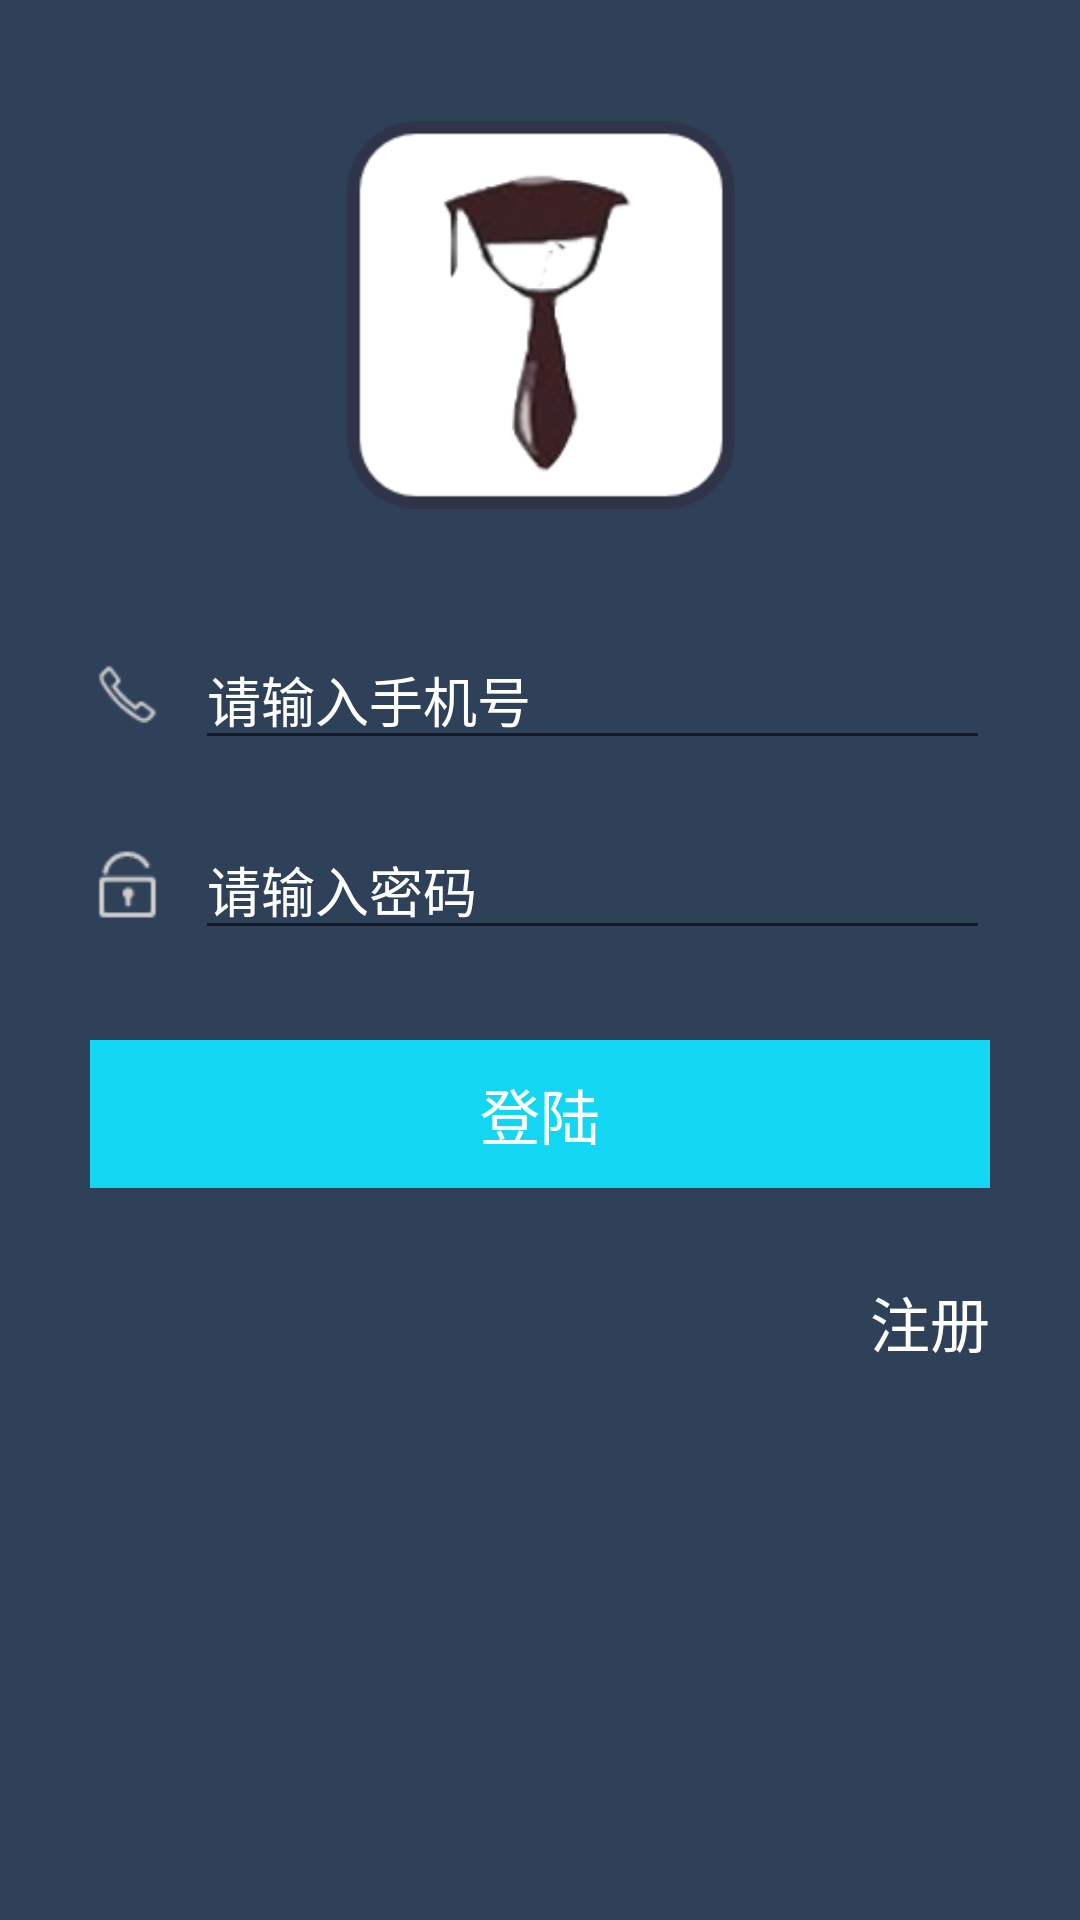

Icons on this 1080x1920 Android screen, each with the point to tap as (x=x, y=y):
lock: (x=127, y=884)
phone: (x=127, y=694)
